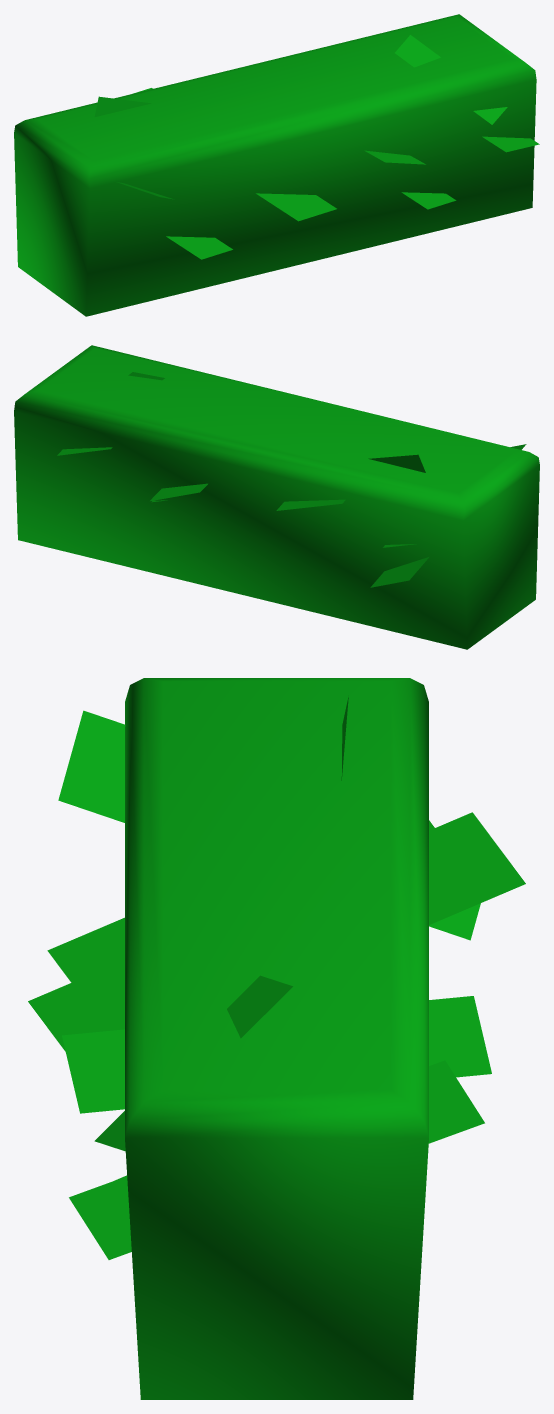
Rendered from NewBushFence 1.fbx.
The picture shows the model from 3 angles, top to bottom: view 1: azimuth 30°, elevation 25°; view 2: azimuth 150°, elevation 25°; view 3: azimuth 270°, elevation 25°; orthographic projection. The views are drawn at different scales.
Parts seen in each view (by area): view 1: bush; view 2: bush; view 3: bush.
Boxes of the visible parts, x1,y1,x2,y2 form: bush: (14,14,539,316); bush: (14,345,539,649); bush: (28,678,525,1399).
Size of the model in its own units: 84.43 by 30.04 by 40.8.
